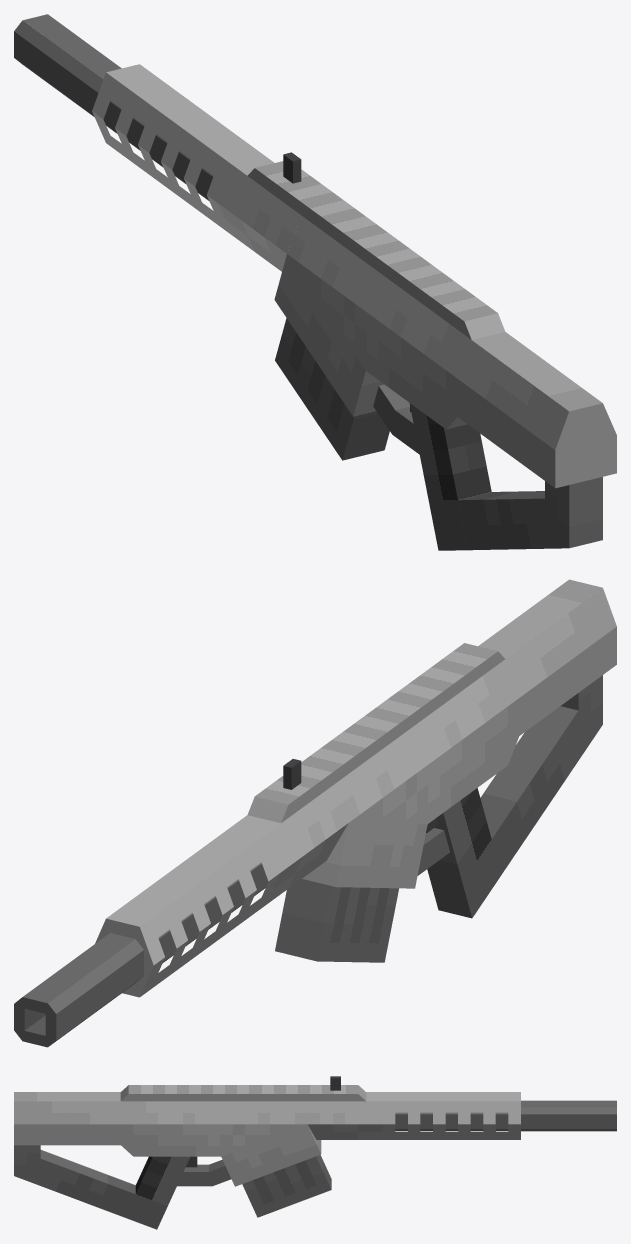
The model's file is heavy_rifle.gltf.
The picture shows the model from 3 angles, top to bottom: view 1: azimuth 30°, elevation 25°; view 2: azimuth 150°, elevation 25°; view 3: azimuth 270°, elevation 25°; orthographic projection. The views are drawn at different scales.
Parts seen in each view (by area): view 1: cube (×20); view 2: cube (×19); view 3: cube (×20).
Part boxes in pixels (box(x1,y1,x2,y2)): cube (×20): box(14, 14, 616, 550); cube (×19): box(22, 579, 616, 1040); cube (×20): box(14, 1085, 616, 1229).
Bounding box in the file's own units: 0.0915 × 0.3824 × 1.41.
1 material, 1 textured.
